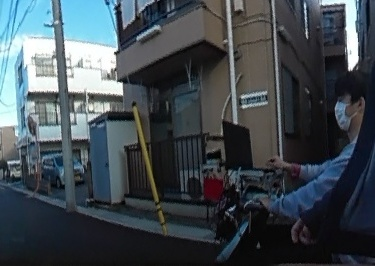person: (277, 68, 375, 266)
